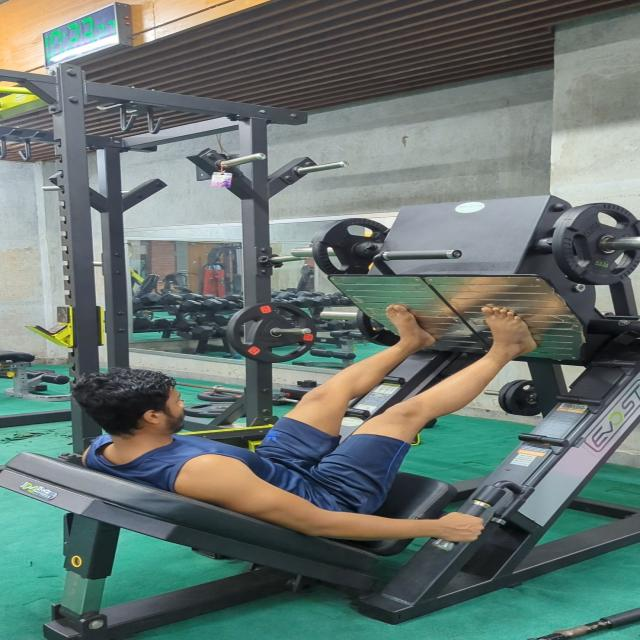Normal_LegPress: (48, 300, 551, 547)
